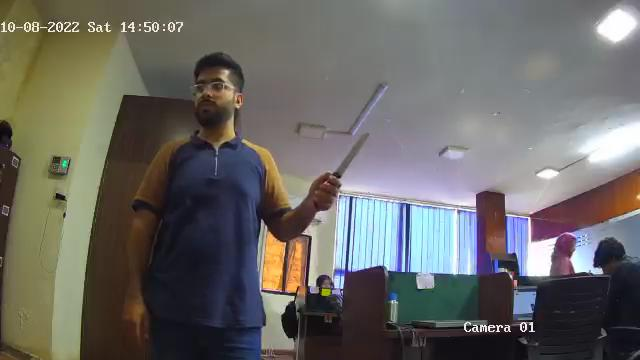knives: (316, 132, 376, 208)
